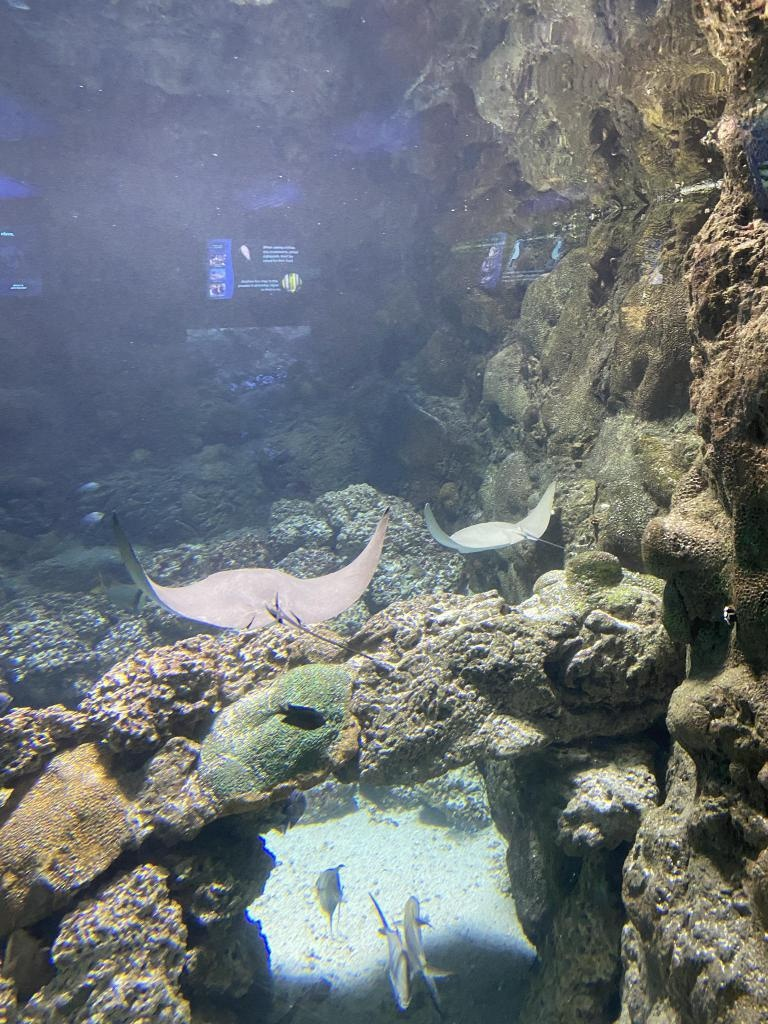fish: (372, 893, 413, 1009), (401, 896, 452, 978), (316, 863, 348, 917), (278, 702, 326, 730), (282, 790, 306, 832)
stingray: (112, 510, 388, 632), (426, 482, 557, 552)
